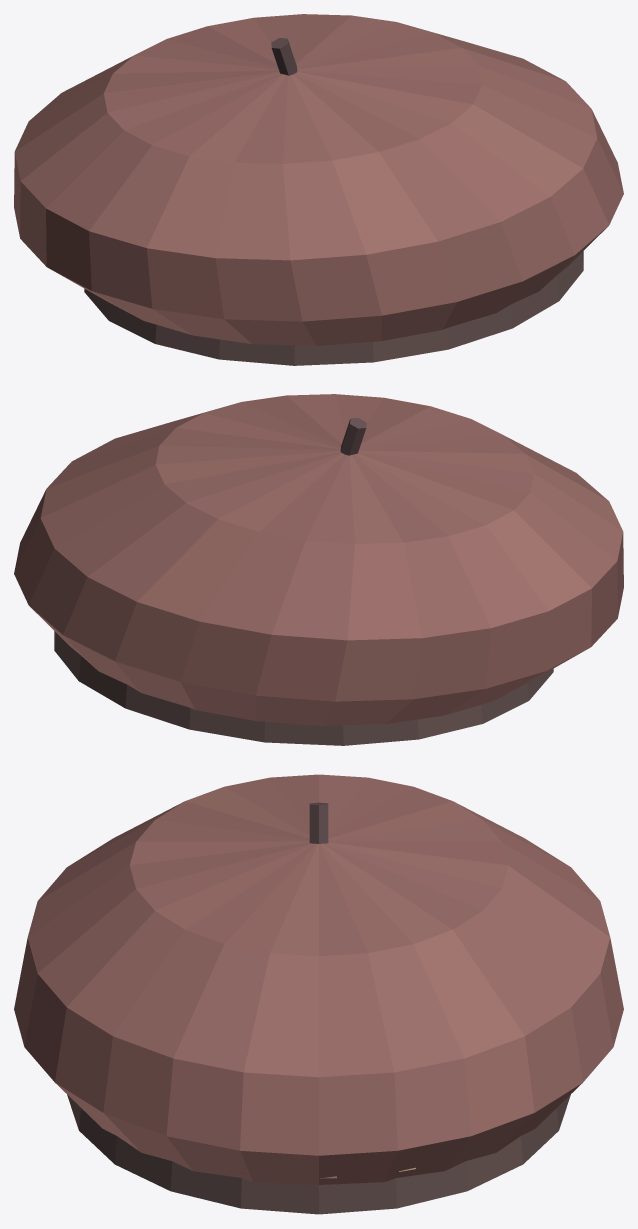
The model's file is hat_beret.glb.
3 renders of one model, top to bottom at view 1: azimuth 30°, elevation 25°; view 2: azimuth 150°, elevation 25°; view 3: azimuth 270°, elevation 25°, orthographic. The views are drawn at different scales.
Parts seen in each view (by area): view 1: hat_beret; view 2: hat_beret; view 3: hat_beret.
Boxes of the visible parts, bbox=[...] form: hat_beret: bbox=[14, 14, 623, 365]; hat_beret: bbox=[14, 394, 623, 745]; hat_beret: bbox=[14, 774, 623, 1214].
Size of the model in its own units: 0.5808 by 0.2428 by 0.5104.
